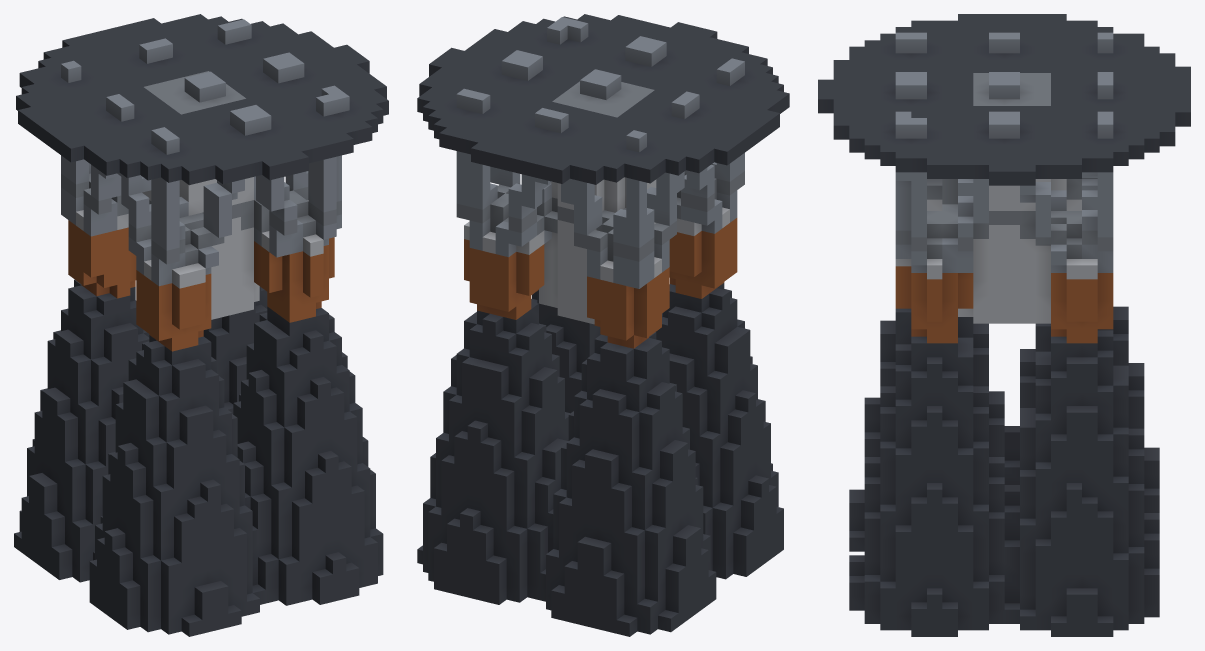
Rendered from eng_falcao_4v.glb.
3 views of the same model, side by side, from view 1: azimuth 30°, elevation 25°; view 2: azimuth 150°, elevation 25°; view 3: azimuth 270°, elevation 25° (orthographic). The views are drawn at different scales.
Parts seen in each view (by area): view 1: eng_falcao_4v; view 2: eng_falcao_4v; view 3: eng_falcao_4v.
Part boxes in pixels (x1,y1,x2,y2): eng_falcao_4v: (14,14,388,636); eng_falcao_4v: (417,14,789,636); eng_falcao_4v: (818,14,1190,636).
Bounding box in the file's own units: 1.2 × 1.75 × 1.2.
